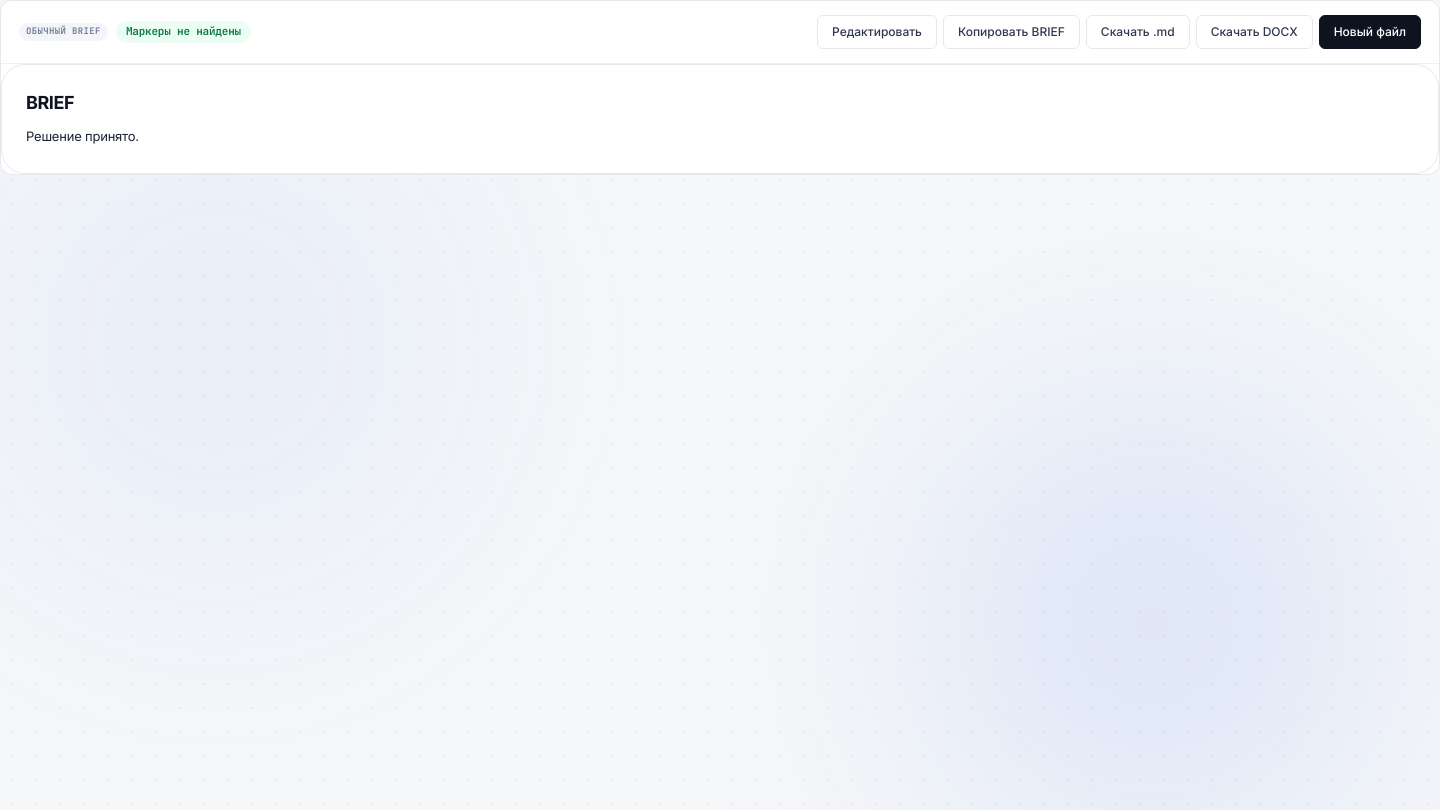
Test: TranscriptBriefV4 — DOCX download › shows a recoverable inline error, without crashing, when the download fails
The image size is (1440, 810).
Click the button "Скачать DOCX": (1254, 32) [1196,15,1313,49]
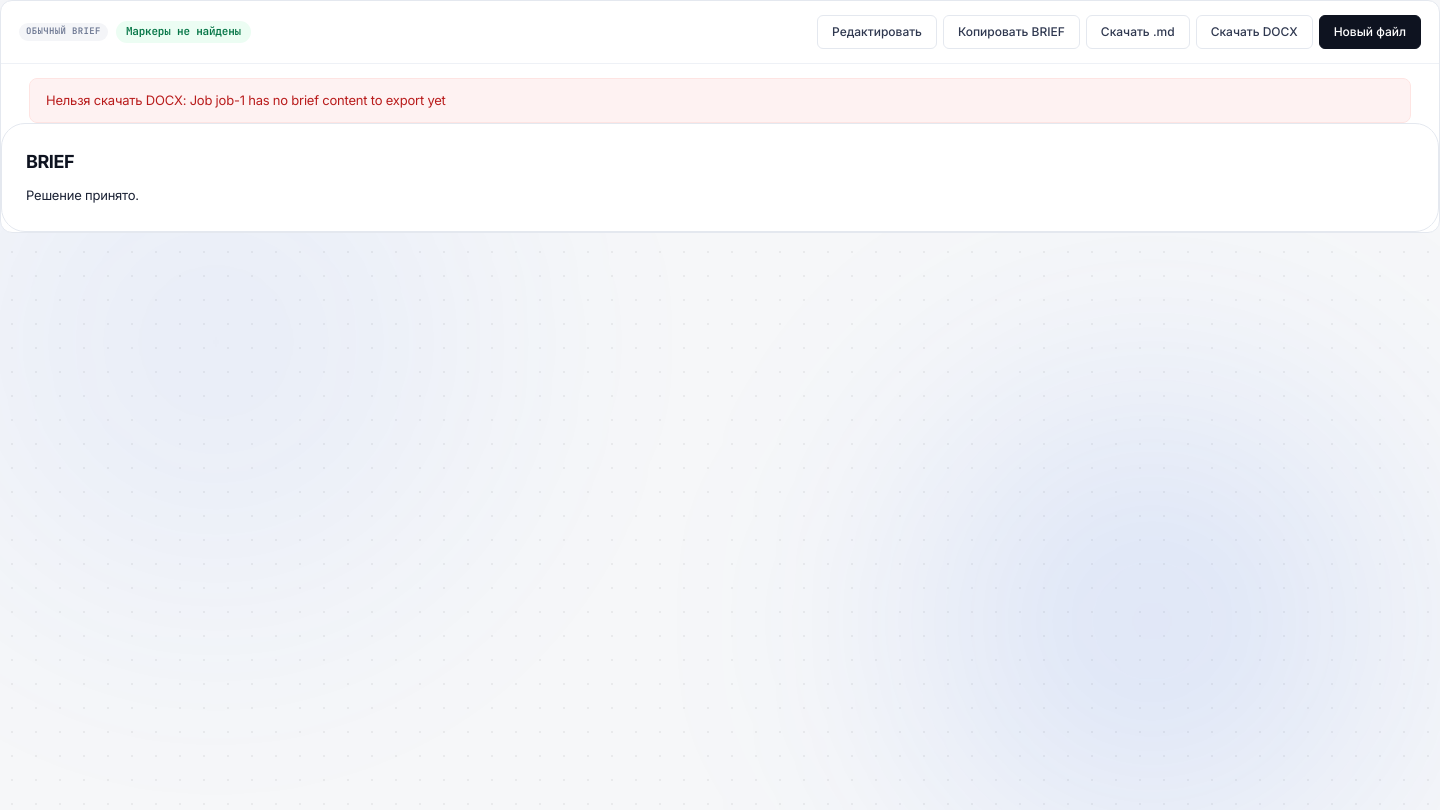
Check: the text "Решение принято." is shown, box [26,187,139,203]
Check: the text "Нельзя скачать DOCX" is shown, box [46,92,446,108]
